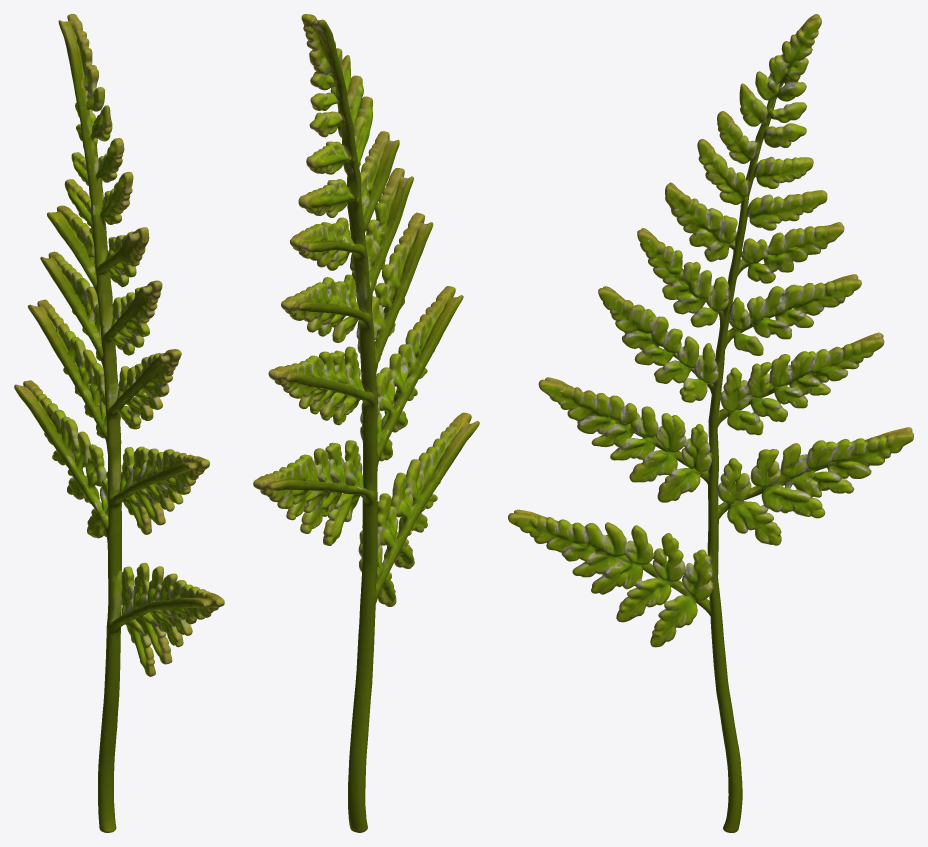
File: Fern 1.glb
3 renders of one model, left to right at view 1: azimuth 30°, elevation 25°; view 2: azimuth 150°, elevation 25°; view 3: azimuth 270°, elevation 25°, orthographic. The views are drawn at different scales.
Visible parts, largest first — view 1: tripo_node_c9fe9137-31b8-4623-838c-b7f11e46a7d0; view 2: tripo_node_c9fe9137-31b8-4623-838c-b7f11e46a7d0; view 3: tripo_node_c9fe9137-31b8-4623-838c-b7f11e46a7d0.
Boxes of the visible parts, x1,y1,x2,y2 form: tripo_node_c9fe9137-31b8-4623-838c-b7f11e46a7d0: [14, 14, 224, 832]; tripo_node_c9fe9137-31b8-4623-838c-b7f11e46a7d0: [253, 14, 479, 832]; tripo_node_c9fe9137-31b8-4623-838c-b7f11e46a7d0: [508, 14, 913, 832].
Size of the model in its own units: 0.0292 by 0.9999 by 0.4509.
1 material, 1 textured.
